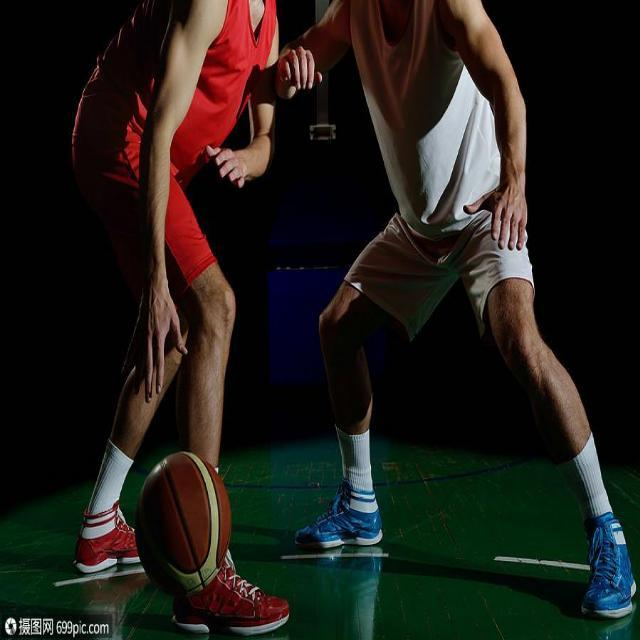rim: (138, 451, 232, 596)
